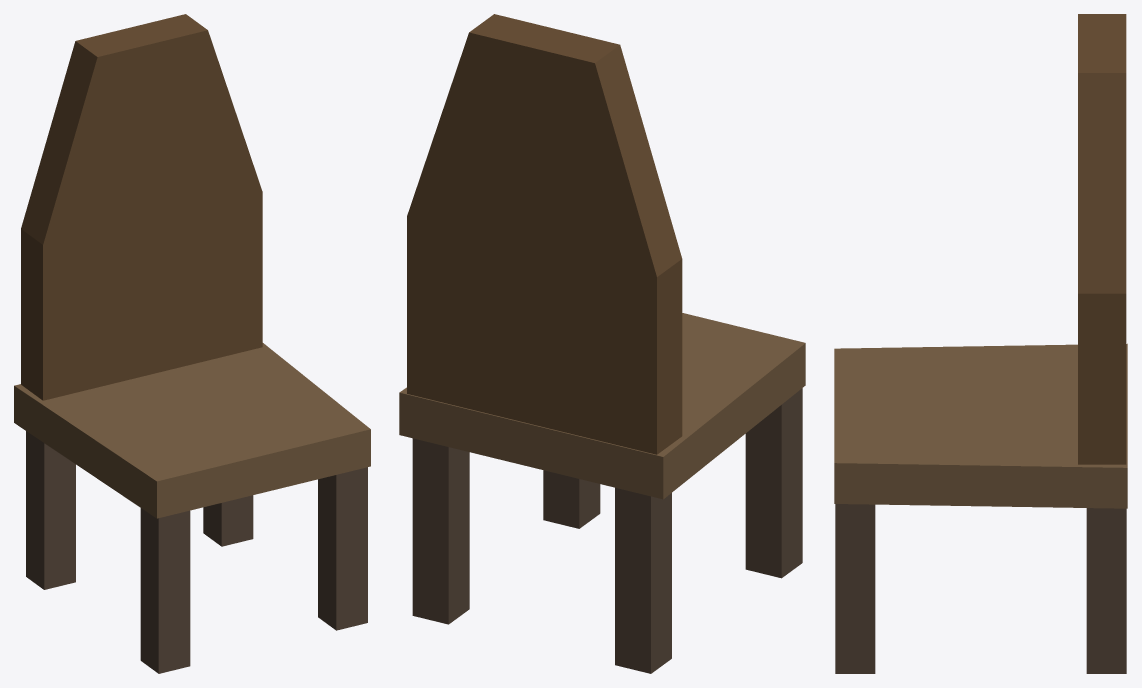
File: Chair.glb
3 views of the same model, side by side, from view 1: azimuth 30°, elevation 25°; view 2: azimuth 150°, elevation 25°; view 3: azimuth 270°, elevation 25° (orthographic). The views are drawn at different scales.
Parts seen in each view (by area): view 1: Cube.002-convcol, Cube-convcol, Cube.001-convcol; view 2: Cube.002-convcol, Cube.001-convcol, Cube-convcol; view 3: Cube-convcol, Cube.002-convcol, Cube.001-convcol.
Boxes of the visible parts, x1=… form: Cube.002-convcol: x1=21, y1=14, x2=262, y2=400; Cube-convcol: x1=14, y1=343, x2=370, y2=518; Cube.001-convcol: x1=26, y1=431, x2=367, y2=673; Cube.002-convcol: x1=407, y1=14, x2=682, y2=454; Cube.001-convcol: x1=412, y1=388, x2=802, y2=673; Cube-convcol: x1=399, y1=313, x2=805, y2=499; Cube-convcol: x1=834, y1=343, x2=1127, y2=508; Cube.002-convcol: x1=1078, y1=14, x2=1126, y2=464; Cube.001-convcol: x1=835, y1=504, x2=1126, y2=673.
Size of the model in its own units: 2 by 4.32 by 2.
